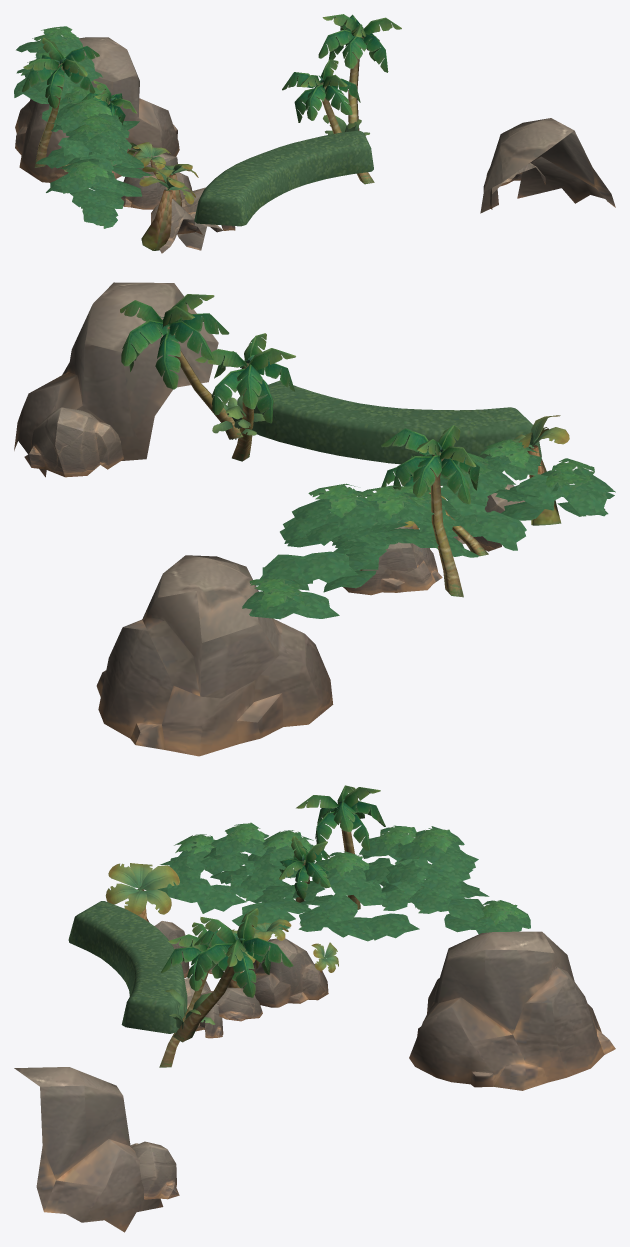
Rendered from pref_sm_4v4pointbake_WSJ_CSD_L02_lv0.fbx.
3 views of the same model, one above another, from view 1: azimuth 30°, elevation 25°; view 2: azimuth 150°, elevation 25°; view 3: azimuth 270°, elevation 25° (orthographic). The views are drawn at different scales.
Visible parts, largest first — view 1: sm_4v4pointbake_WSJ_CSD_L02_c_lv0, sm_4v4pointbake_WSJ_CSD_L02_b_lv0, sm_4v4pointbake_WSJ_CSD_L02_a_lv0; view 2: sm_4v4pointbake_WSJ_CSD_L02_b_lv0, sm_4v4pointbake_WSJ_CSD_L02_c_lv0, sm_4v4pointbake_WSJ_CSD_L02_a_lv0; view 3: sm_4v4pointbake_WSJ_CSD_L02_b_lv0, sm_4v4pointbake_WSJ_CSD_L02_c_lv0, sm_4v4pointbake_WSJ_CSD_L02_a_lv0.
Boxes of the visible parts, left/top/right/bottom form: sm_4v4pointbake_WSJ_CSD_L02_c_lv0: left=14, top=14, right=401, bottom=250; sm_4v4pointbake_WSJ_CSD_L02_b_lv0: left=15, top=37, right=615, bottom=253; sm_4v4pointbake_WSJ_CSD_L02_a_lv0: left=194, top=130, right=373, bottom=226; sm_4v4pointbake_WSJ_CSD_L02_b_lv0: left=14, top=282, right=525, bottom=756; sm_4v4pointbake_WSJ_CSD_L02_c_lv0: left=120, top=294, right=615, bottom=619; sm_4v4pointbake_WSJ_CSD_L02_a_lv0: left=252, top=380, right=541, bottom=464; sm_4v4pointbake_WSJ_CSD_L02_b_lv0: left=14, top=921, right=615, bottom=1232; sm_4v4pointbake_WSJ_CSD_L02_c_lv0: left=105, top=785, right=530, bottom=1067; sm_4v4pointbake_WSJ_CSD_L02_a_lv0: left=68, top=901, right=187, bottom=1033.
Size of the model in its own units: 24.13 by 8.89 by 22.12.
